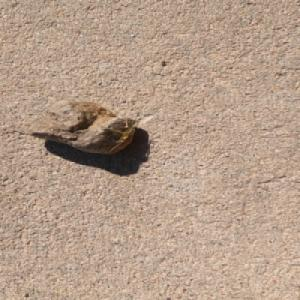Rock: (16, 95, 137, 154)
